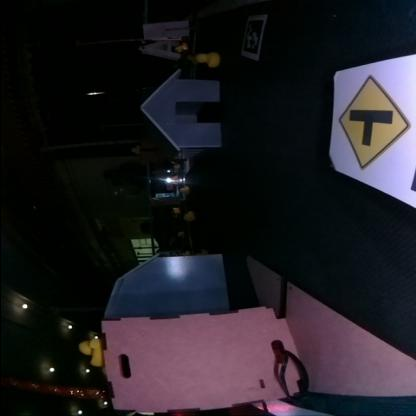Duckie: (78, 338, 100, 365), (196, 52, 218, 65), (182, 212, 192, 219), (179, 186, 187, 192)
Intersection sign: (336, 75, 406, 166)
QR code: (240, 16, 265, 60)
